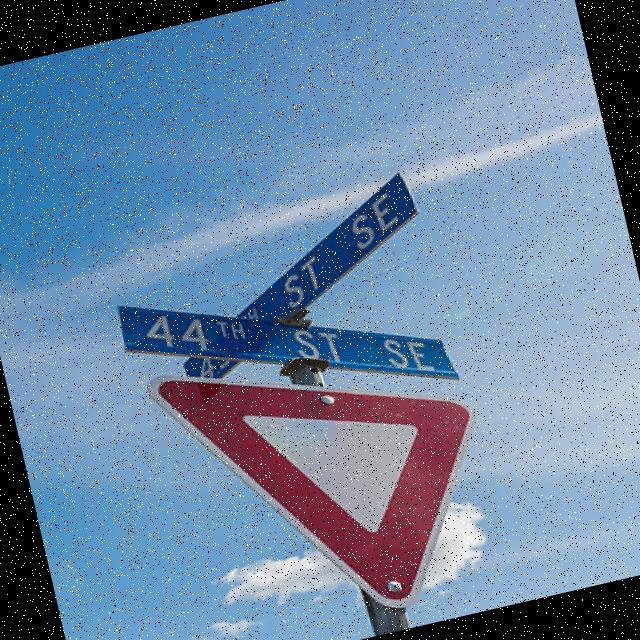give_way: (129, 293, 544, 640)
